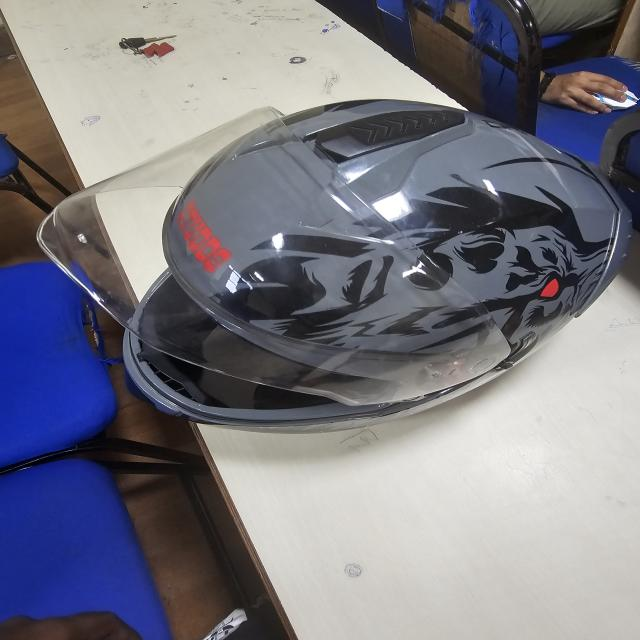helmet: (36, 104, 636, 434)
